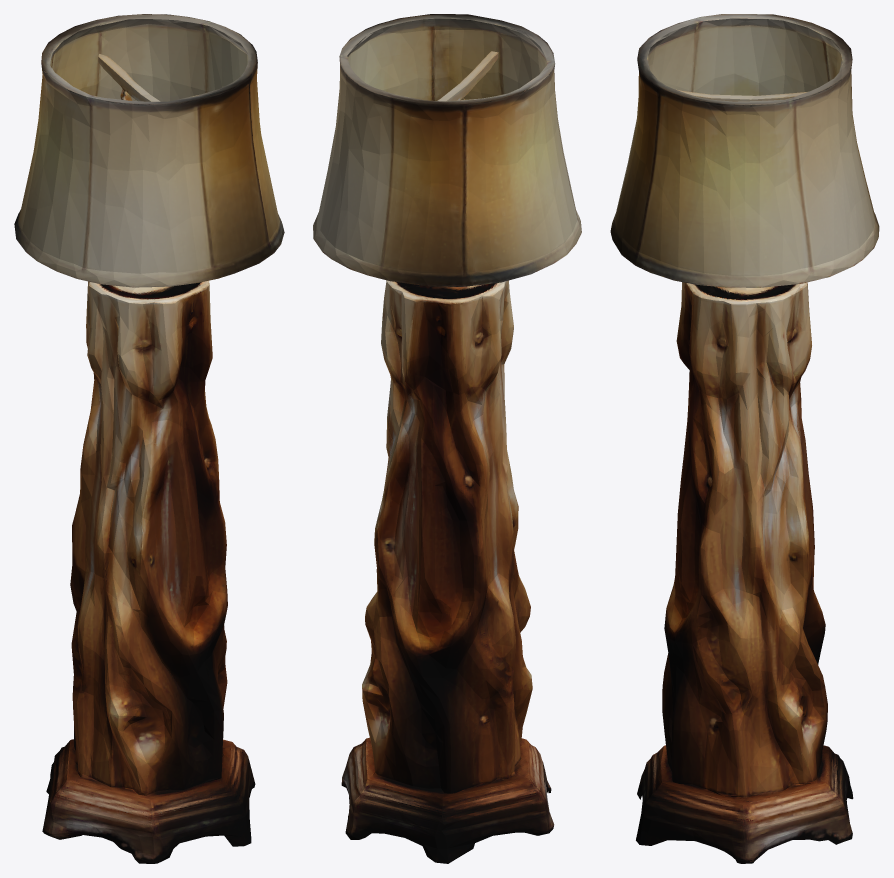
Rendered from wooden-floor-lamp-rustic.jpeg.glb.
3 renders of one model, left to right at view 1: azimuth 30°, elevation 25°; view 2: azimuth 150°, elevation 25°; view 3: azimuth 270°, elevation 25°, orthographic.
Parts seen in each view (by area): view 1: world; view 2: world; view 3: world.
Part boxes in pixels (x1=…): world: x1=14, y1=14, x2=284, y2=863; world: x1=313, y1=14, x2=581, y2=863; world: x1=610, y1=14, x2=879, y2=863.
Bounding box in the file's own units: 0.3196 × 1 × 0.3202.
1 material, 1 textured.
